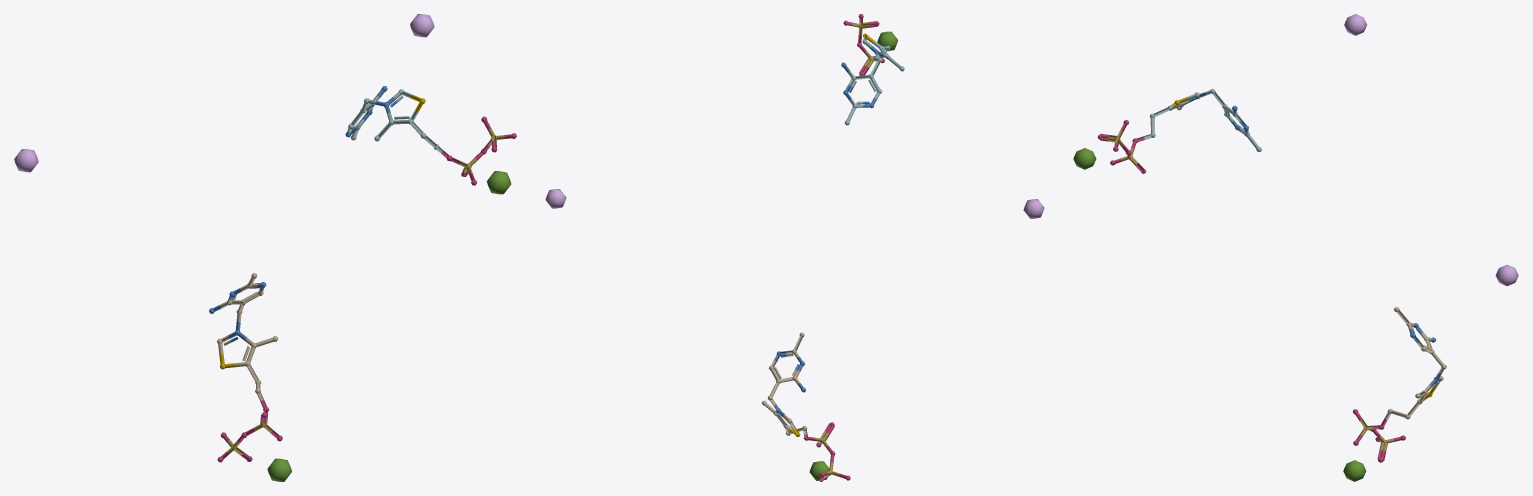
The model's file is simple-ligands.glb.
3 renders of one model, left to right at view 1: azimuth 30°, elevation 25°; view 2: azimuth 150°, elevation 25°; view 3: azimuth 270°, elevation 25°, orthographic. The views are drawn at different scales.
Parts seen in each view (by area): view 1: Test Export; view 2: Test Export; view 3: Test Export.
Boxes of the visible parts, left/top/right/bottom form: Test Export: left=14, top=14, right=516, bottom=481; Test Export: left=545, top=14, right=1044, bottom=481; Test Export: left=1073, top=14, right=1518, bottom=481.
Size of the model in its own units: 40.45 by 34.51 by 34.46.
